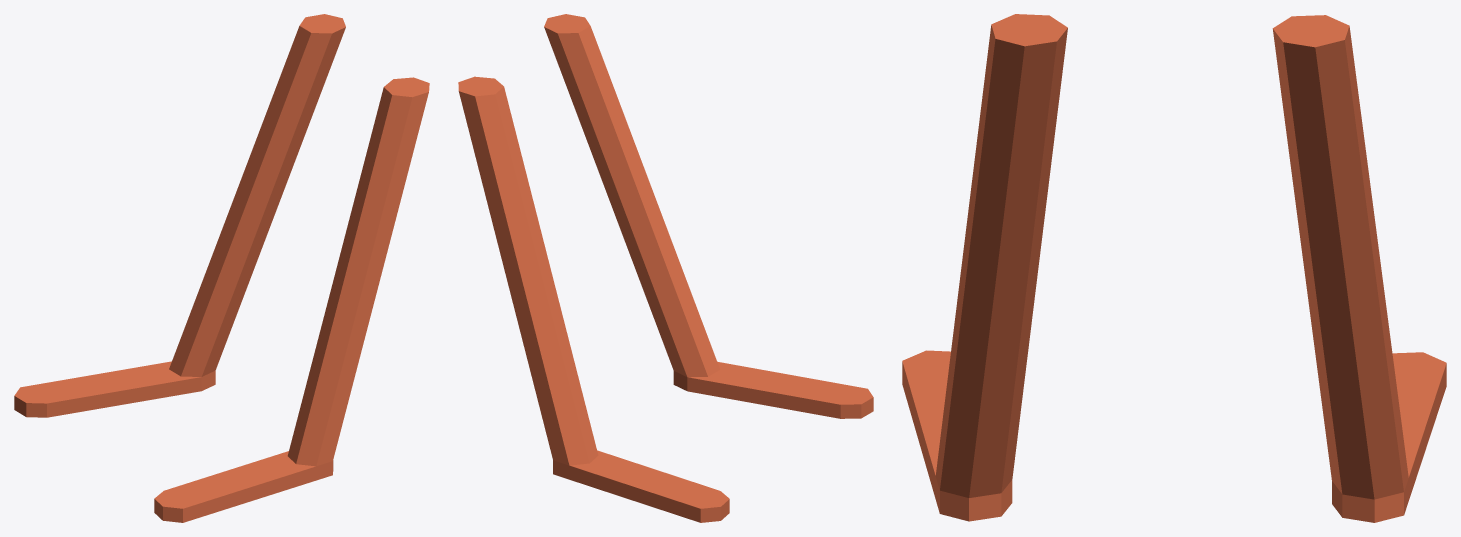
The model's file is legs.fbx.
The picture shows the model from 3 angles, left to right: view 1: azimuth 30°, elevation 25°; view 2: azimuth 150°, elevation 25°; view 3: azimuth 270°, elevation 25°; orthographic projection. The views are drawn at different scales.
Parts seen in each view (by area): view 1: Legs; view 2: Legs; view 3: Legs.
Part boxes in pixels (x1,y1,x2,y2): Legs: (14,14,429,522); Legs: (458,14,873,522); Legs: (902,14,1446,522).
Size of the model in its own units: 177 by 195 by 170.
